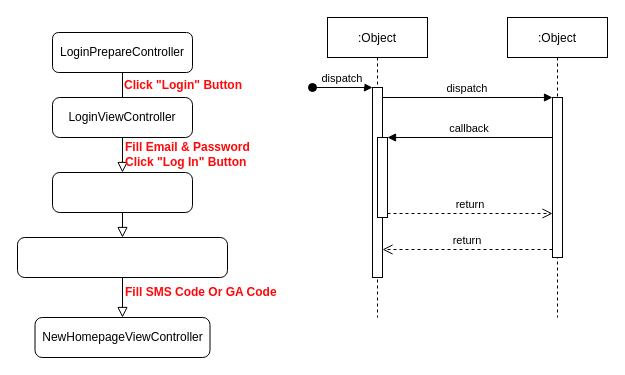
The diagram is 625 pixels wide and 375 high, and some of its shapes have lost their labels. The shapes that lost their labels are listed below. From the top down, each one's centre as x and y in pixels, then its label:
At point (122, 192): "CaptchaViewController".
At point (122, 257): "NewAuthenticationViewController".
